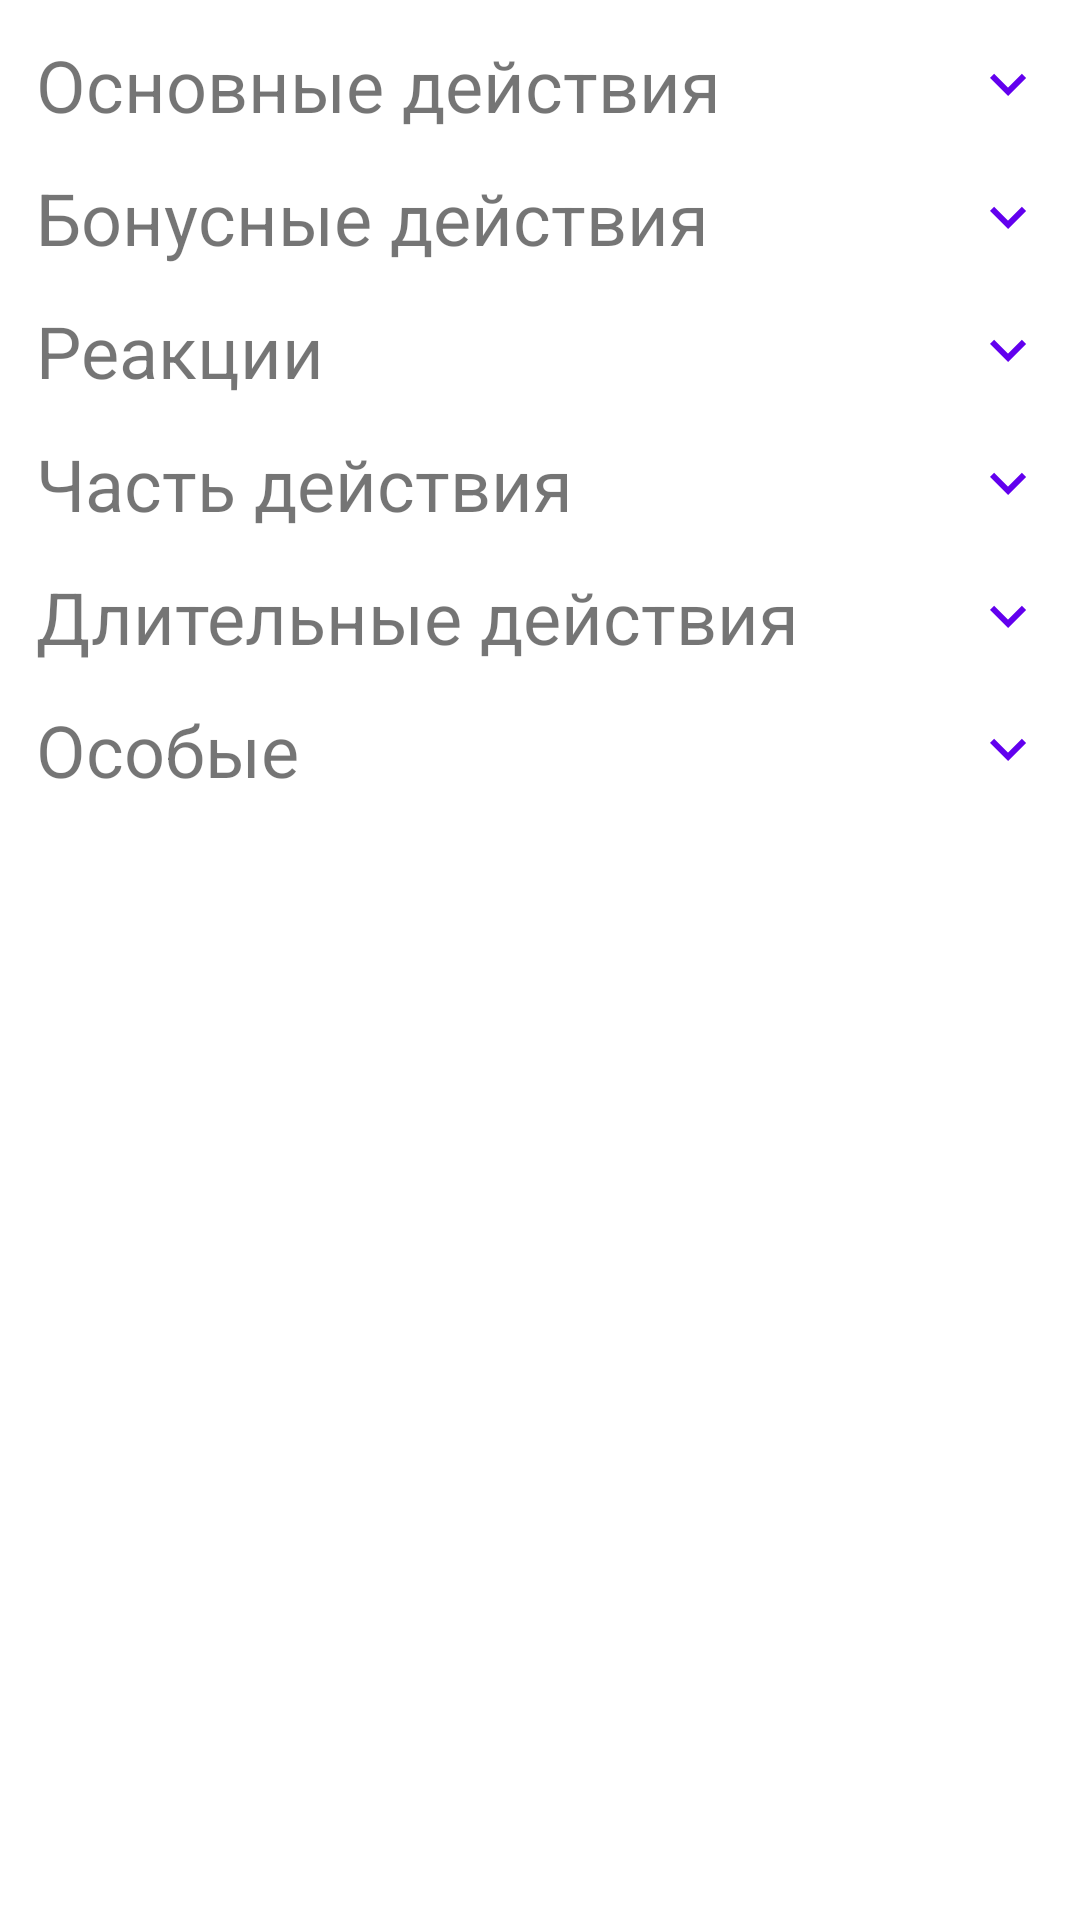

Point at icon controls on the screen. Image size 1080w x 1920h, points as (x,y).
keyboard arrow down: (1008,85), (1008,218), (1008,351), (1008,484), (1008,617), (1008,750)
